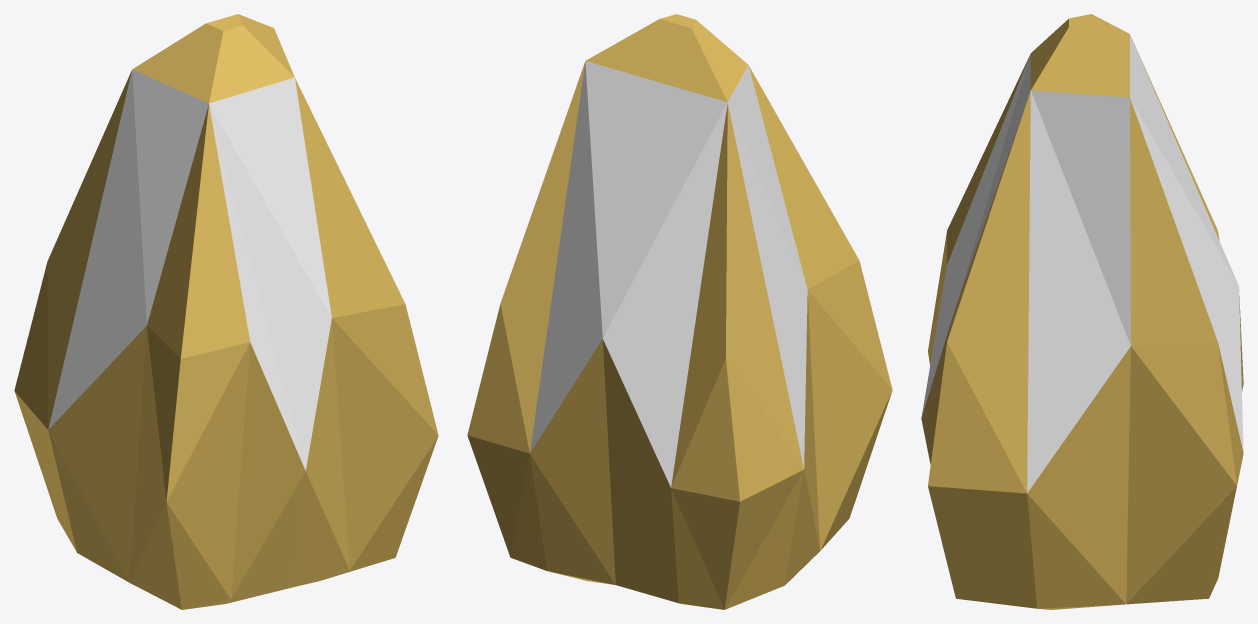
File: maize kernels.fbx
3 views of the same model, side by side, from view 1: azimuth 30°, elevation 25°; view 2: azimuth 150°, elevation 25°; view 3: azimuth 270°, elevation 25° (orthographic).
Parts seen in each view (by area): view 1: pCube77; view 2: pCube77; view 3: pCube77.
Part boxes in pixels (bbox=[...]): pCube77: bbox=[14, 14, 438, 609]; pCube77: bbox=[467, 14, 892, 609]; pCube77: bbox=[921, 14, 1243, 609].
Bounding box in the file's own units: 1.95 × 3.32 × 1.78.
